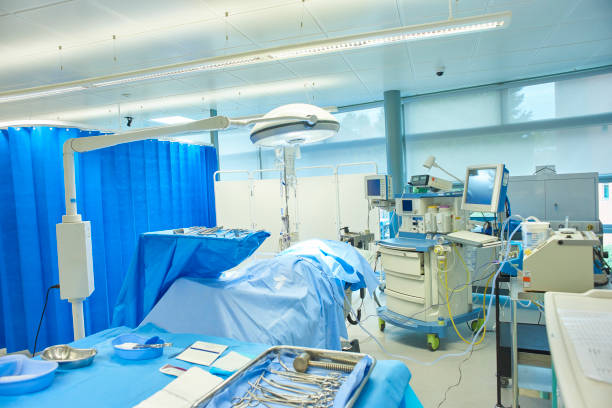bedside_monitor: (361, 173, 386, 202), (394, 198, 421, 214)
computer: (462, 165, 507, 213)
curtain: (3, 118, 222, 354)
hospital_bed: (131, 238, 381, 351)
keyboard: (445, 228, 496, 242)
surgical_instrument: (234, 349, 361, 405), (173, 223, 252, 242)
surgical_light: (43, 103, 346, 294)
ventilator: (379, 192, 486, 350)
